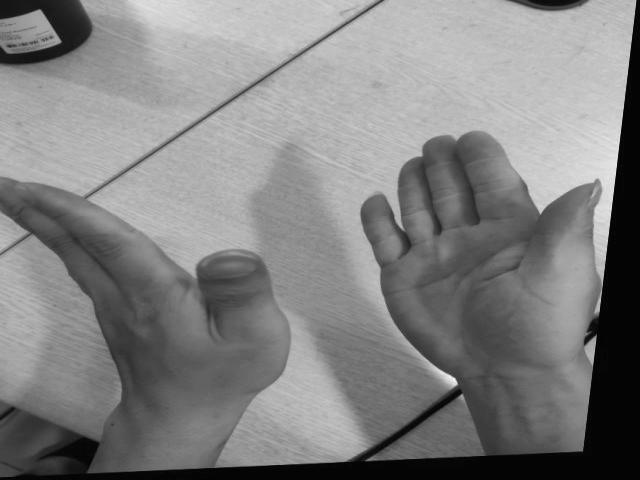not-gloved: (0, 173, 290, 414), (360, 129, 603, 367)
